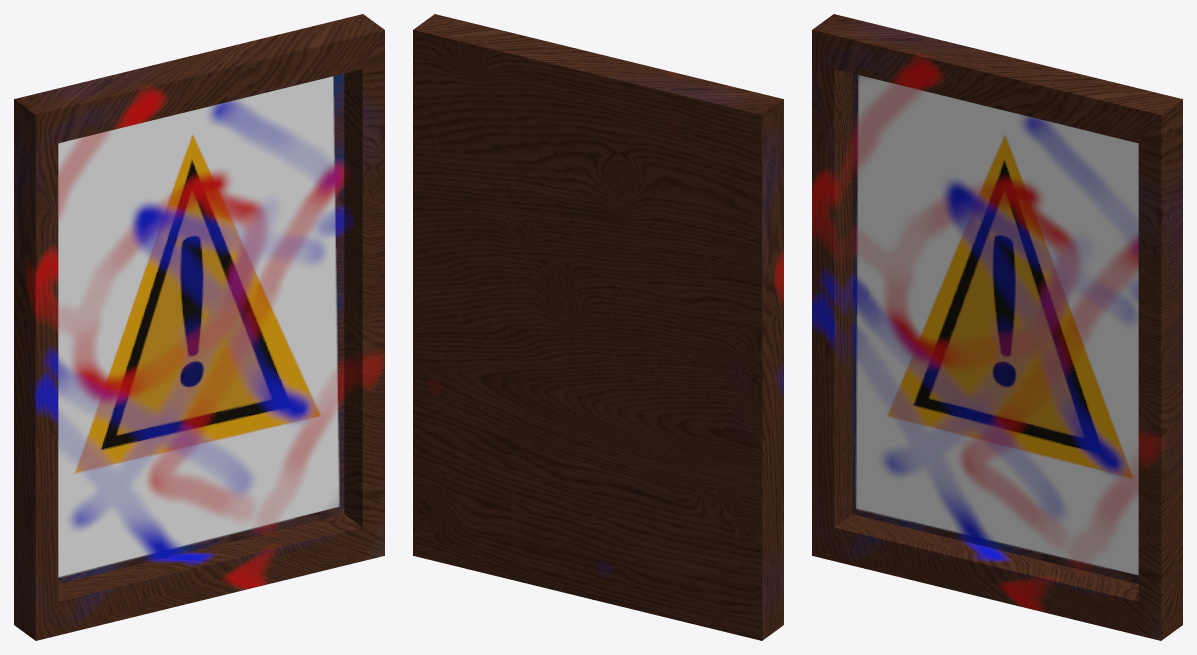
File: Wall_art_frame.fbx
The picture shows the model from 3 angles, left to right: view 1: azimuth 30°, elevation 25°; view 2: azimuth 150°, elevation 25°; view 3: azimuth 330°, elevation 25°; orthographic projection.
Parts seen in each view (by area): view 1: Wall_Art; view 2: Wall_Art; view 3: Wall_Art.
Boxes of the visible parts, <box> form: Wall_Art: <box>14,14,384,640</box>; Wall_Art: <box>413,14,783,640</box>; Wall_Art: <box>812,14,1182,640</box>.
Size of the model in its own units: 9.26 by 13.33 by 1.
